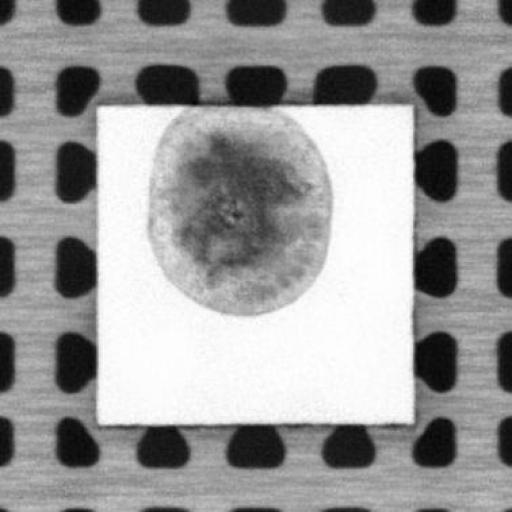DIE_INK: (142, 108, 337, 318)
